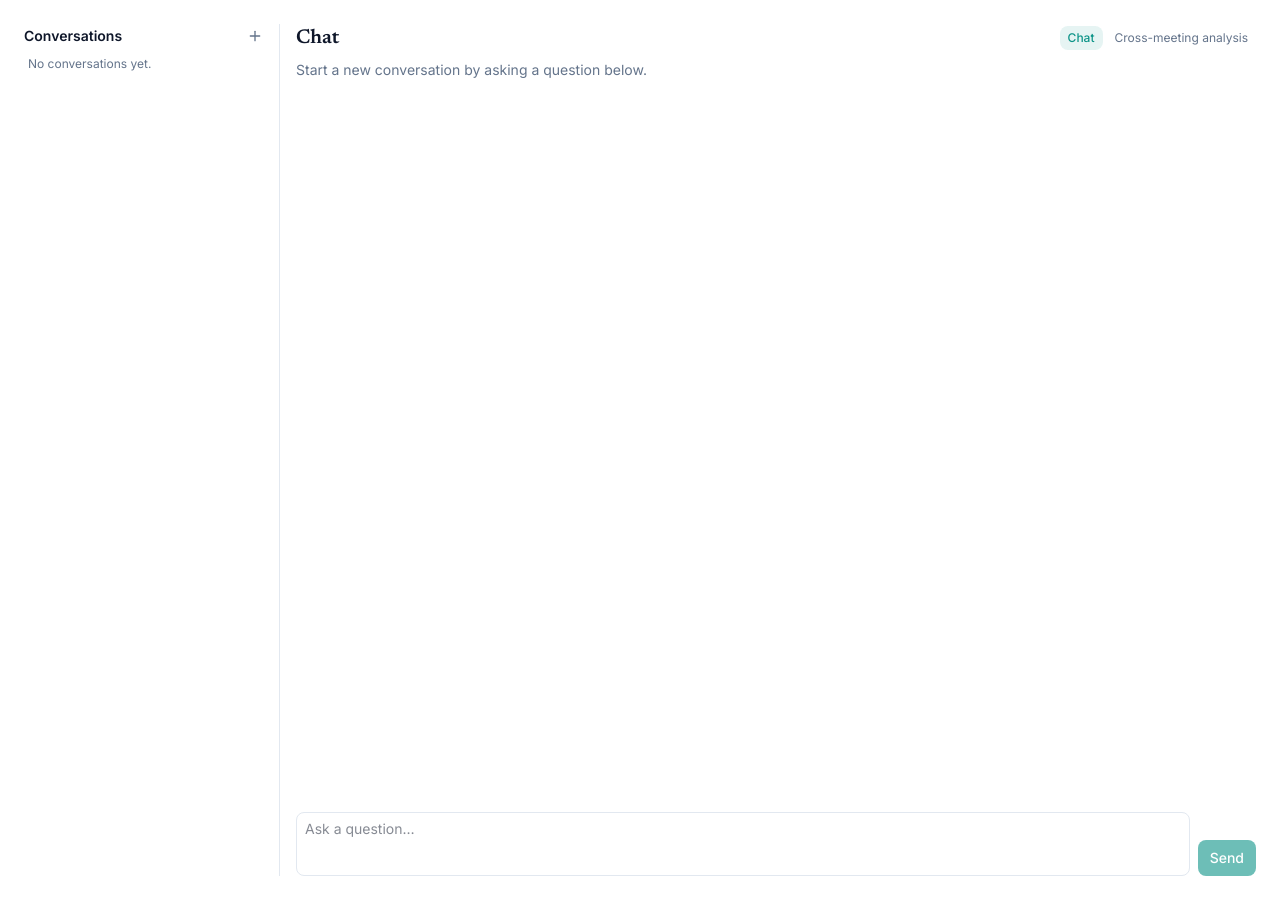
Test case: ChatScreen › cross-meeting analysis › running analysis appends exactly one paired user+assistant message, rendering ordered sections and cross-note citations
This screenshot has width=1280, height=900.
Check: the text "Start a new conversation by asking a question below." is shown, box [296,61,647,78]
Click the tab "Cross-meeting analysis" at (1181, 38), box [1106,26,1256,50]
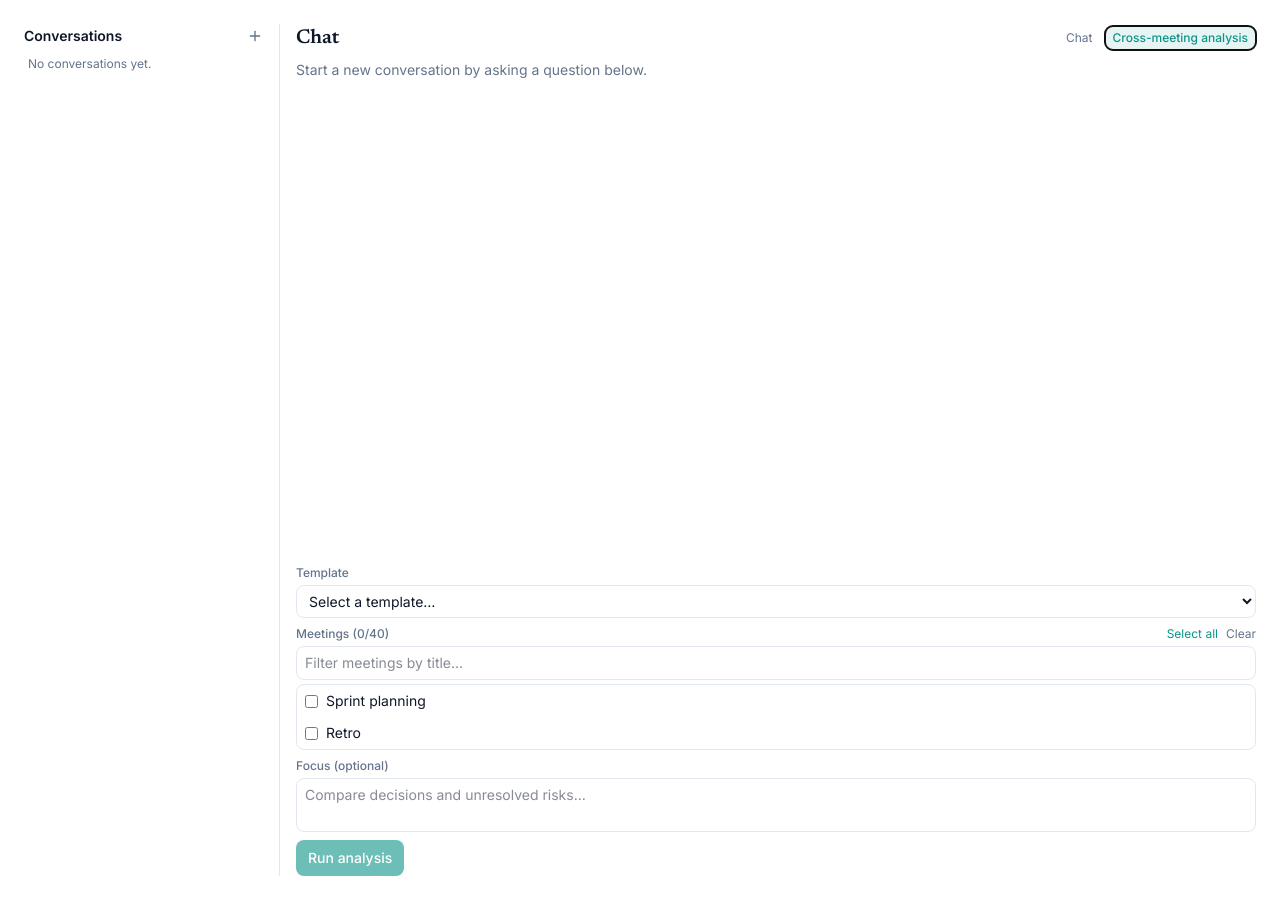
Check: the dropdown named "Cross-analysis template" is shown, box [296,585,1256,618]
Click the checkbox labelled "Sprint planning" at (312, 701), box [305,694,318,708]
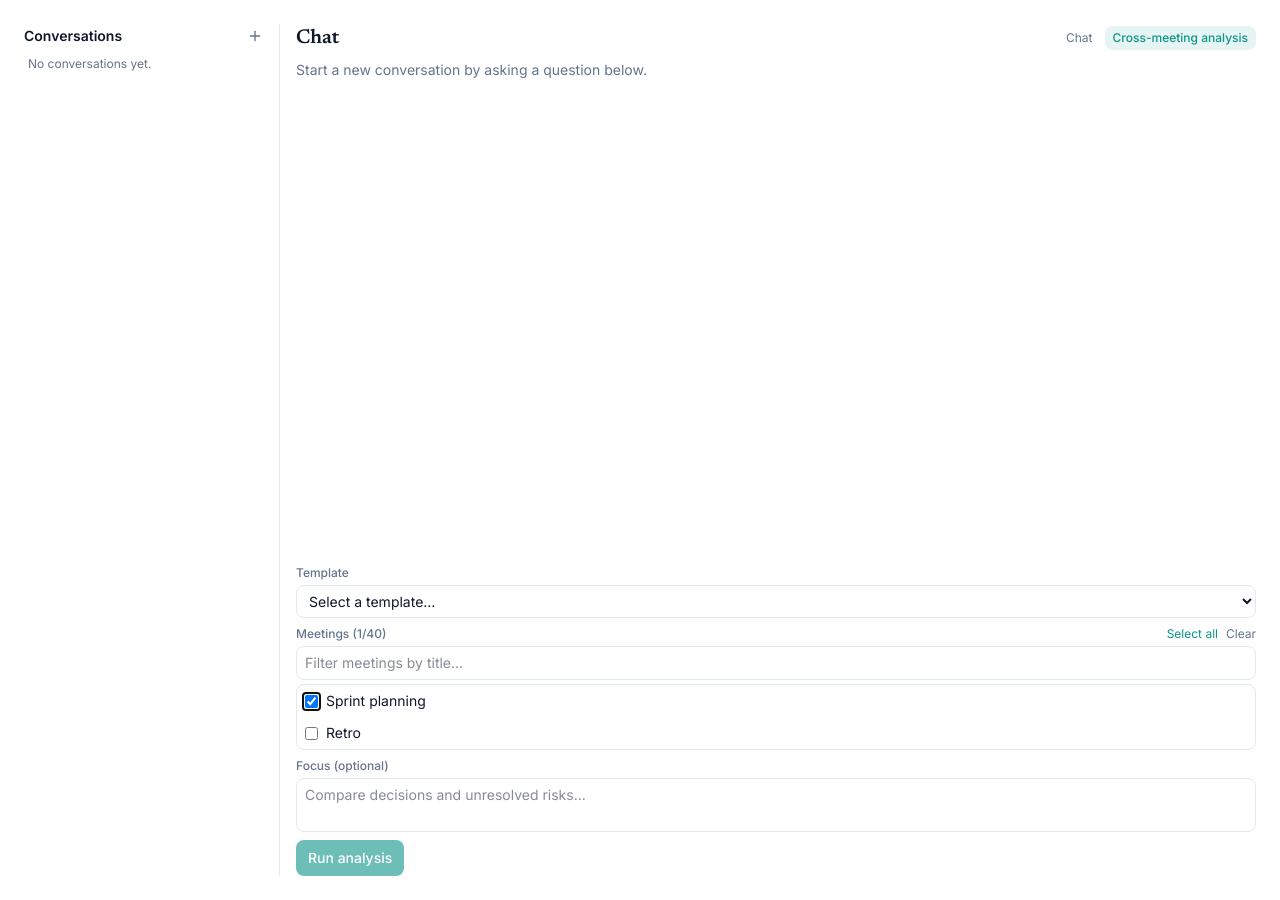
Click the checkbox labelled "Retro" at (312, 733), box [305,726,318,740]
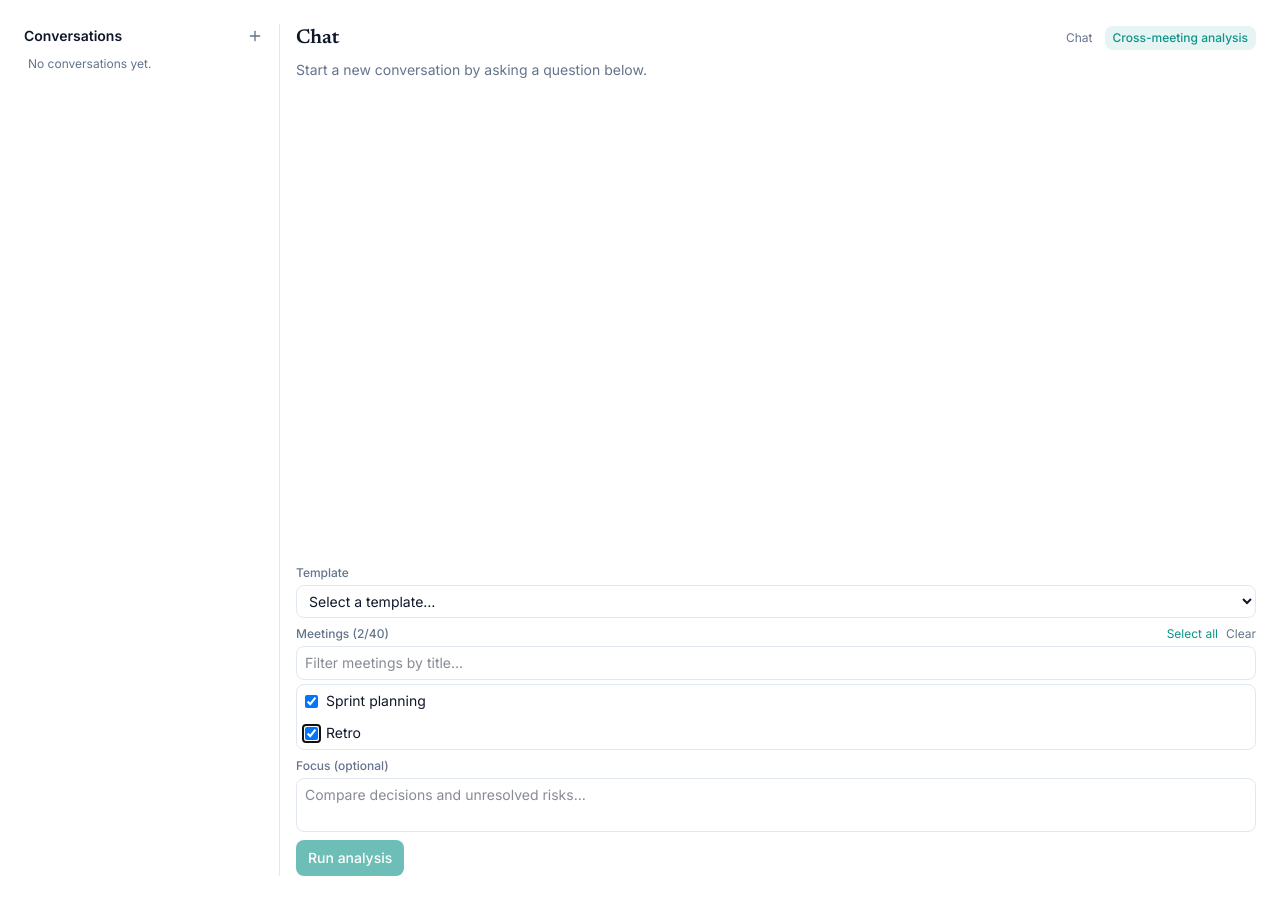
Select "Cross recap" in the dropdown named "Cross-analysis template" at (776, 602), box [296,585,1256,618]
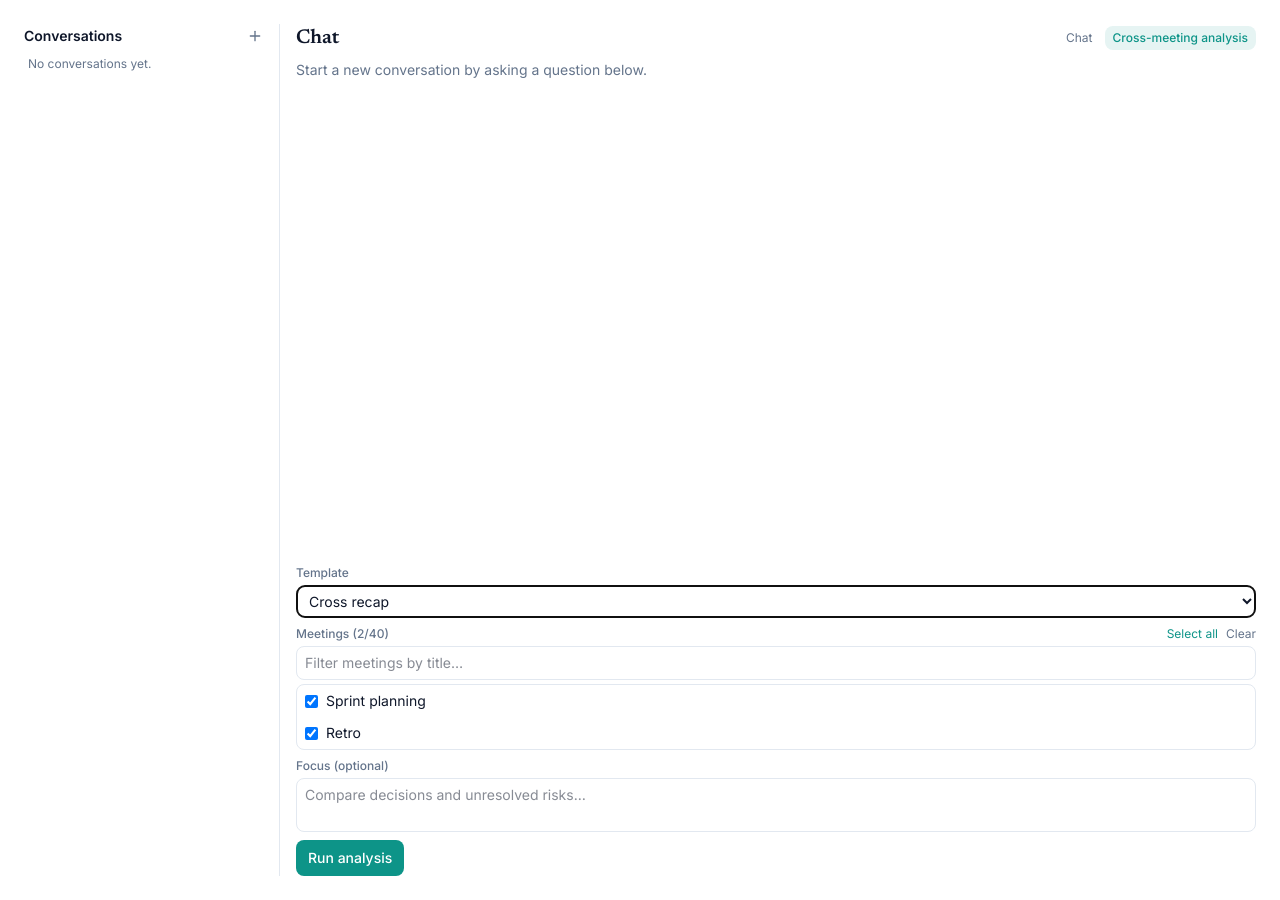
Click the button "Run analysis" at (350, 858), box [296,840,404,876]
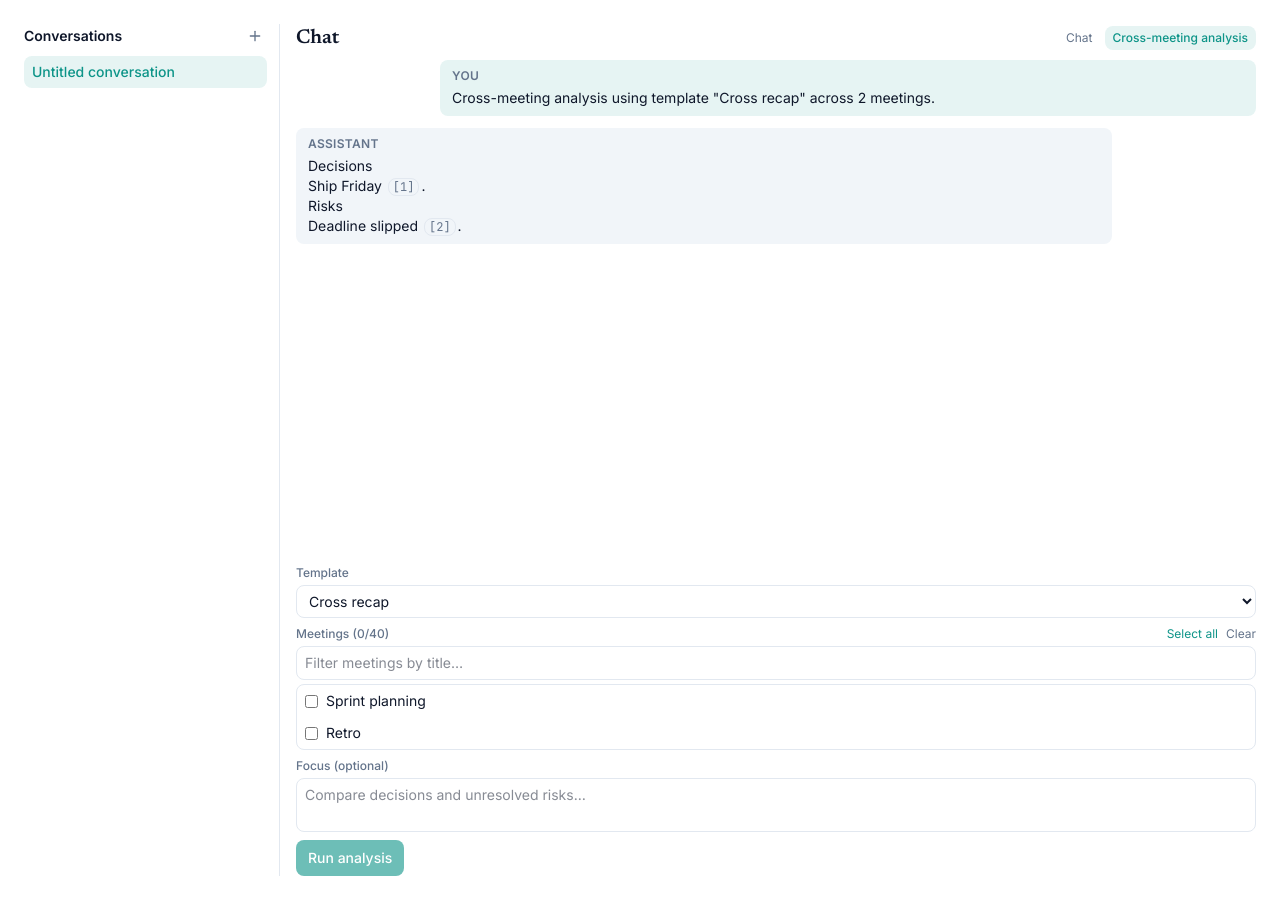
Check: the headings read "Decisions", "Risks", in this order, box [308,157,372,174]; [308,197,343,214]
Check: the text "Cross-meeting analysis using template" is shown, box [452,89,935,106]
